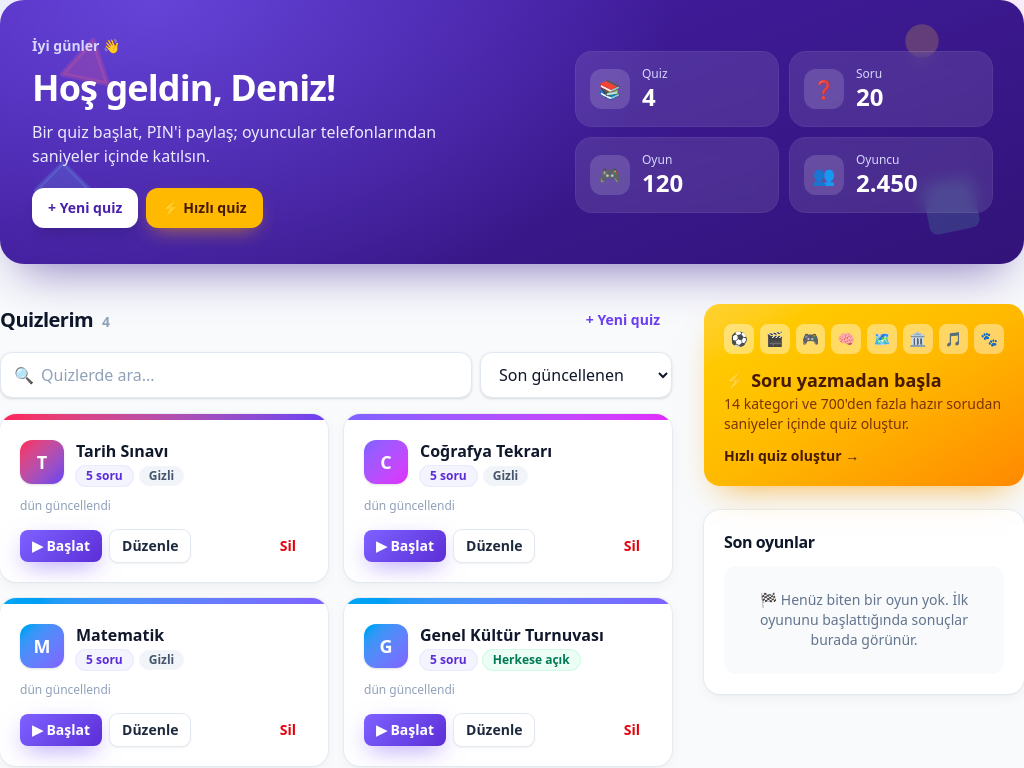
it: panel › arama sadece kalıcı quizlerde ve Türkçe harf duyarsız çalışır
Step 1. Type "COĞRAFYA" into the search field with placeholder "Quizlerde ara..." → (236, 375), box 0,352 -> 472,398
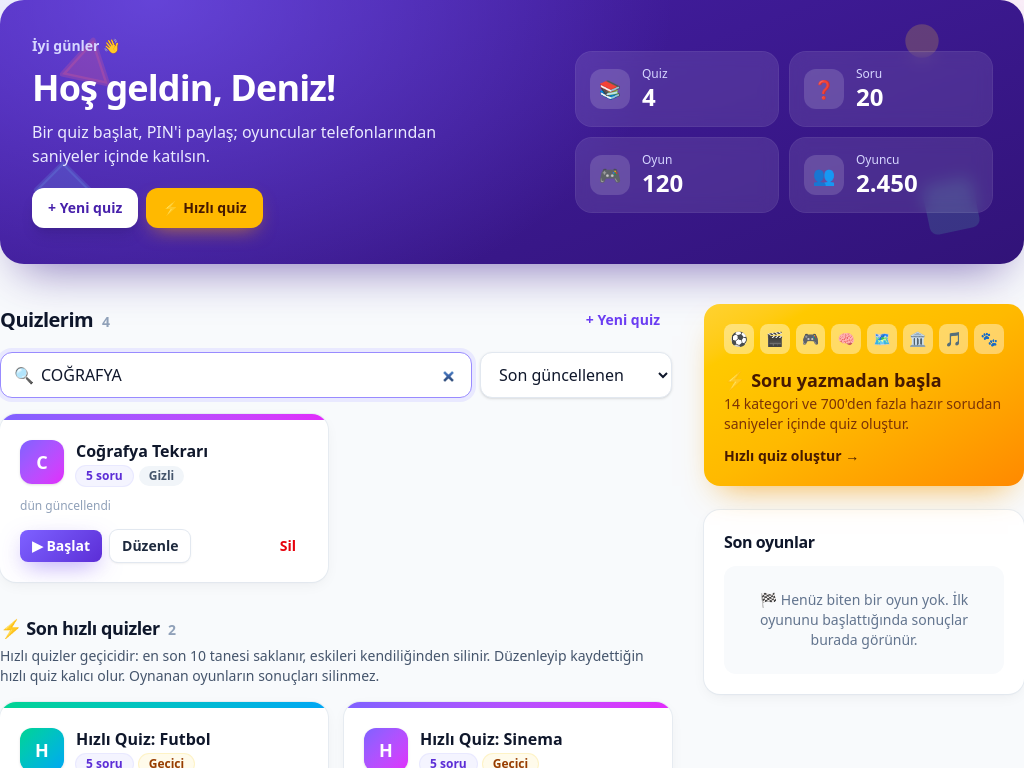
expect the heading "Coğrafya Tekrarı" is shown: met, box 76,440 -> 208,462
expect the heading "Tarih Sınavı" is gone: met
Step 2. Replace the text in the search field with placeholder "Quizlerde ara..." with "olmayan" → (236, 375), box 0,352 -> 472,398
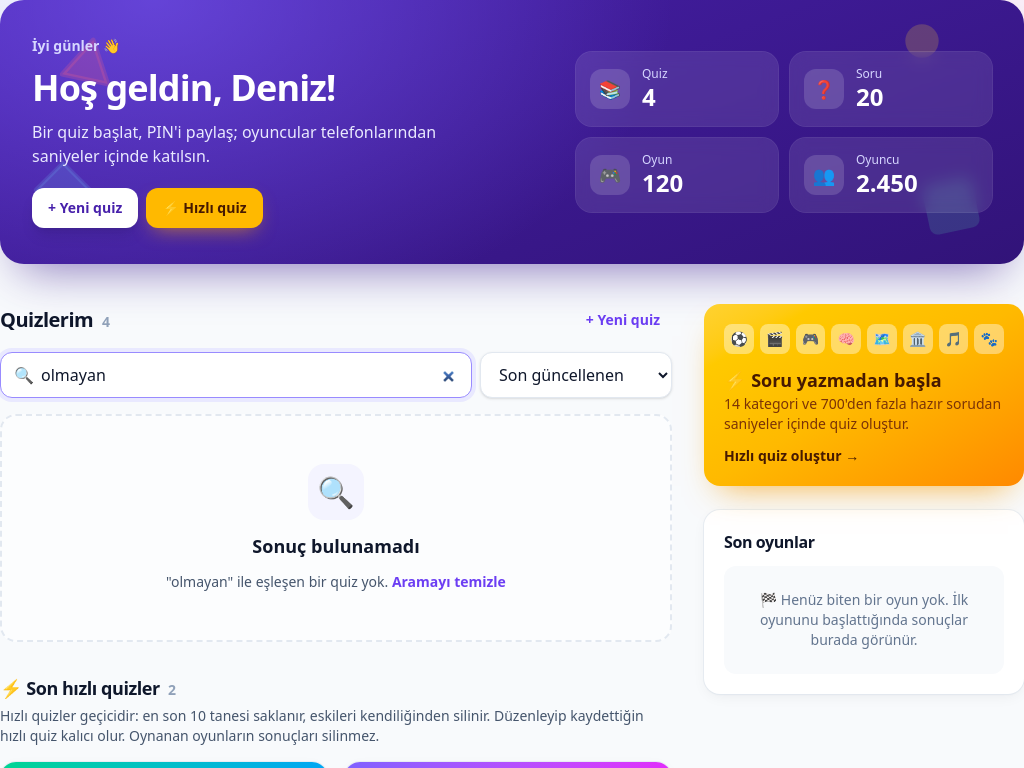
expect the heading "Sonuç bulunamadı" is shown: met, box 252,532 -> 420,560
